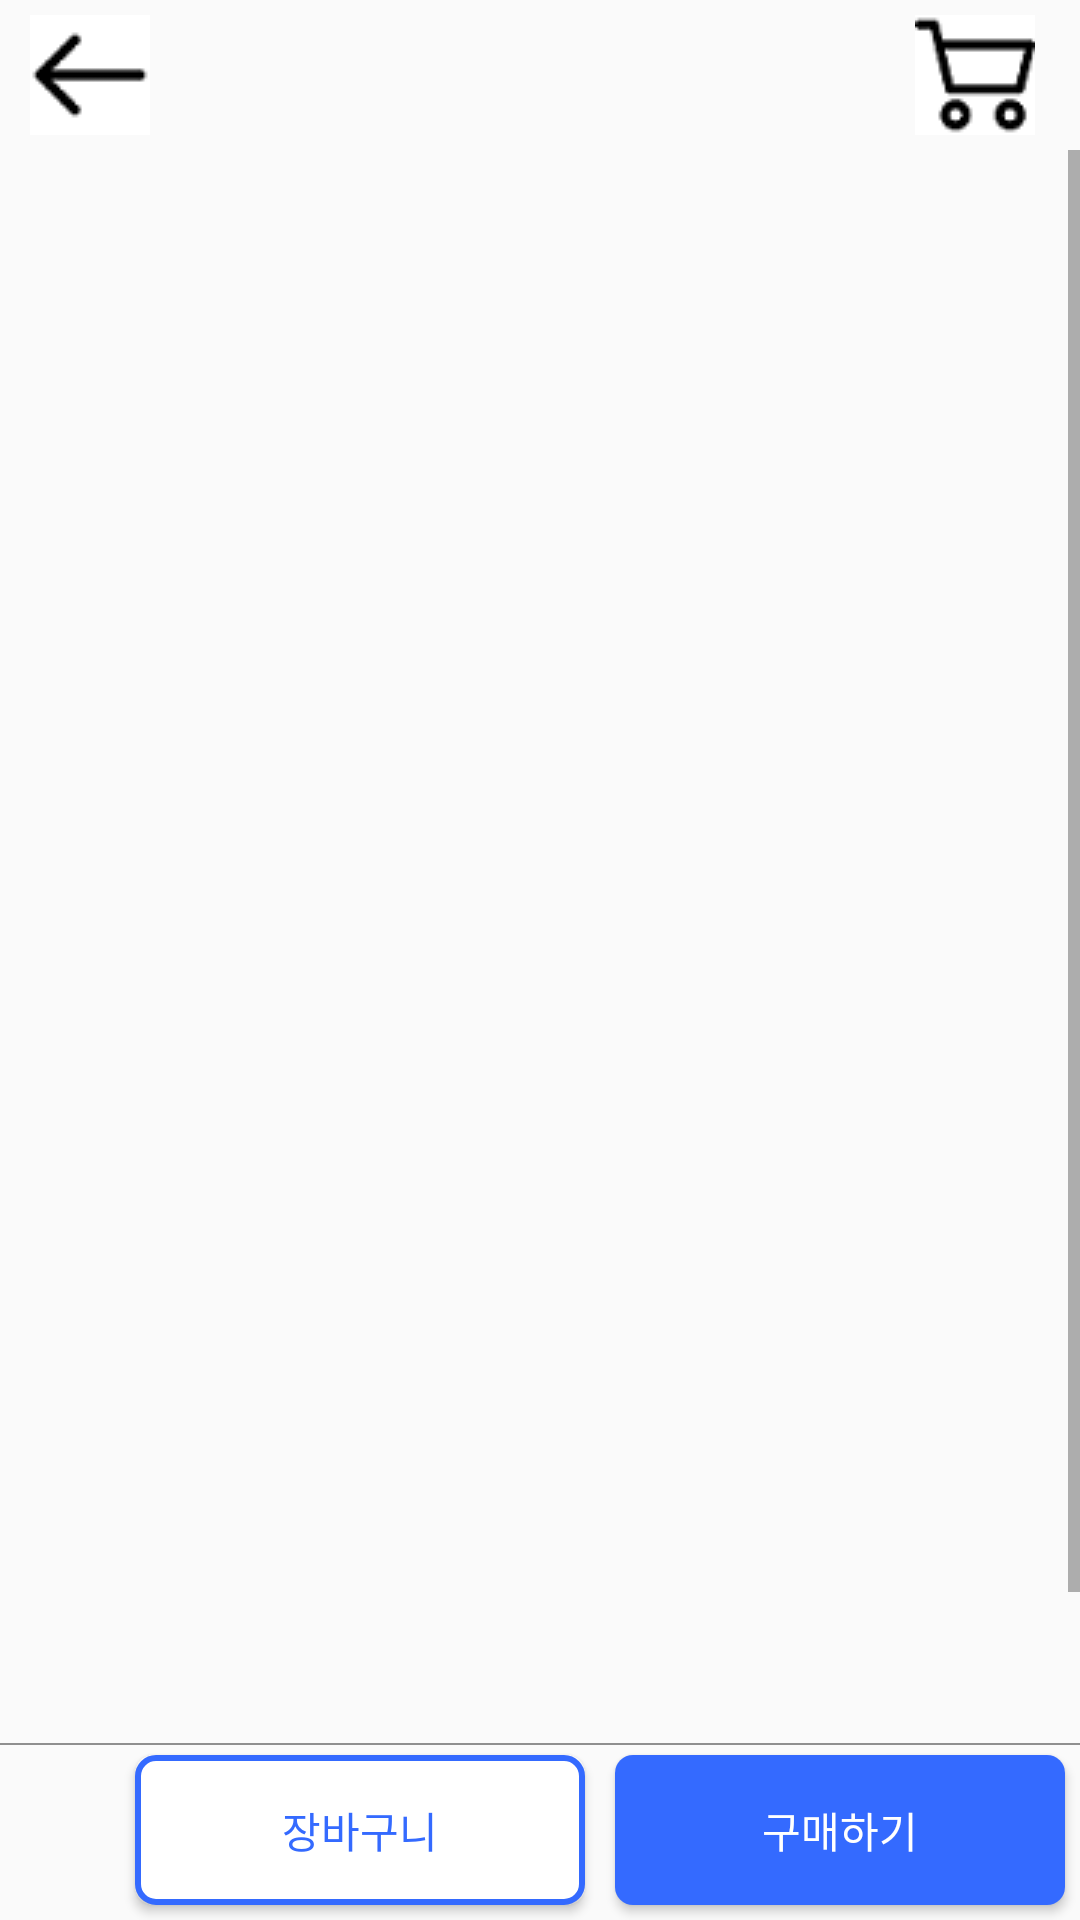

Locate icon controls on the screen. Image size 1080x1920, boxes as (x1, y1, x2, y2).
뒤로 가기 버튼: (33, 32, 147, 117)
장바구니 버튼: (915, 17, 1035, 133)
